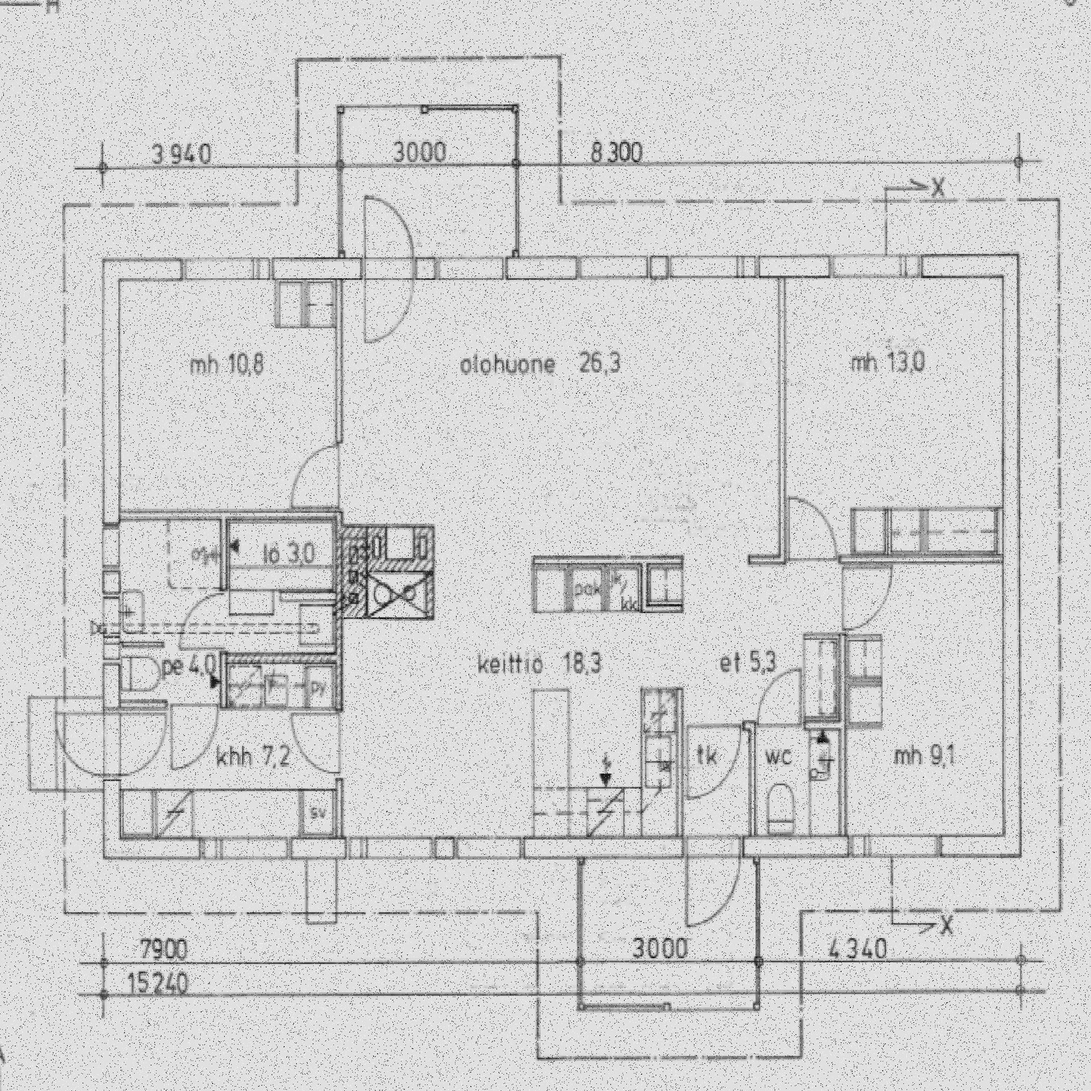wall: (102, 259, 1019, 280), (103, 836, 1019, 857), (1002, 259, 1019, 857), (102, 259, 119, 857), (335, 259, 342, 857), (533, 556, 1018, 564), (342, 525, 366, 619), (103, 513, 342, 522), (841, 556, 848, 857), (779, 259, 785, 564), (676, 720, 848, 728), (222, 652, 342, 661), (221, 513, 228, 661), (102, 700, 228, 708), (676, 689, 682, 857), (748, 720, 754, 857), (221, 653, 228, 708), (641, 555, 647, 613), (641, 605, 681, 613), (427, 571, 433, 619)
